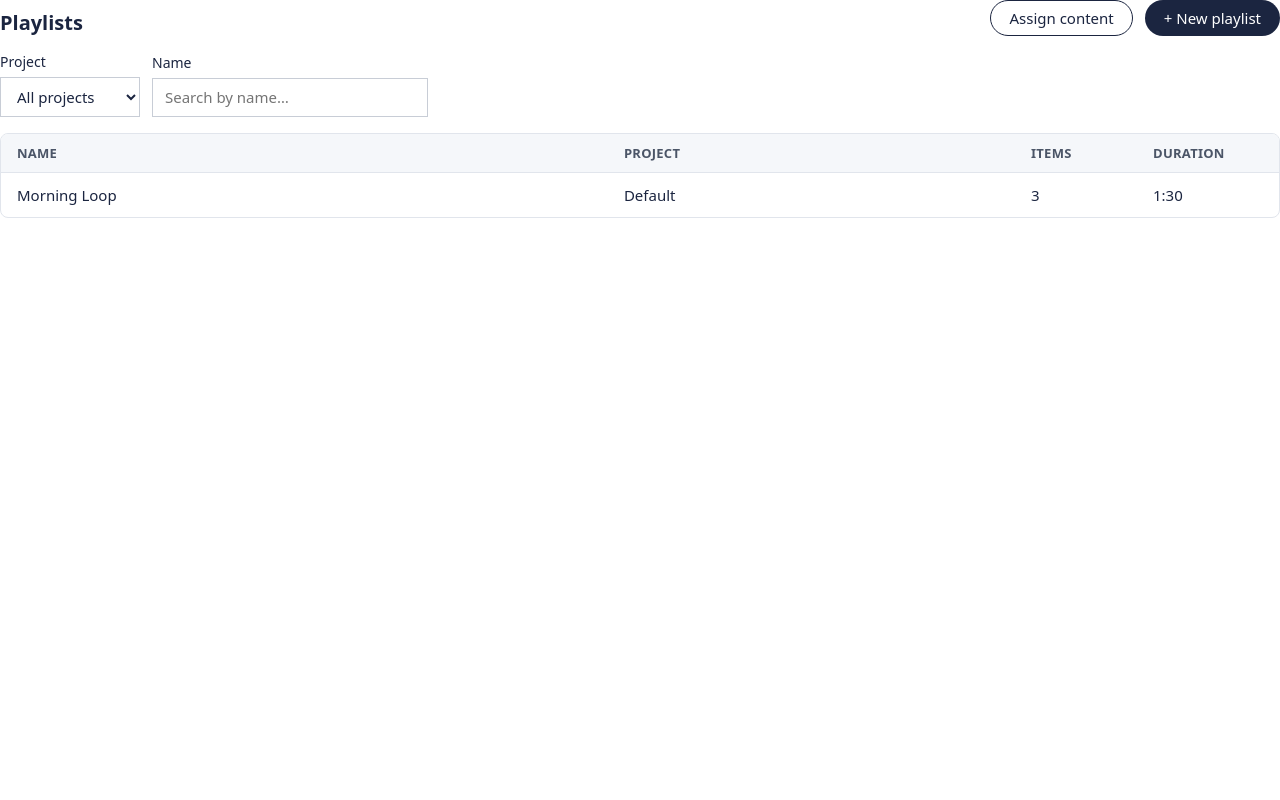
Test: PlaylistsPage — reorder wiring › persists a mouse drag reorder exactly once with the dragged-to order
What coordinates should you click on to do the following:
click the text "Morning Loop"
I would click on:
 (67, 195)
Its box is [1,172,608,217].
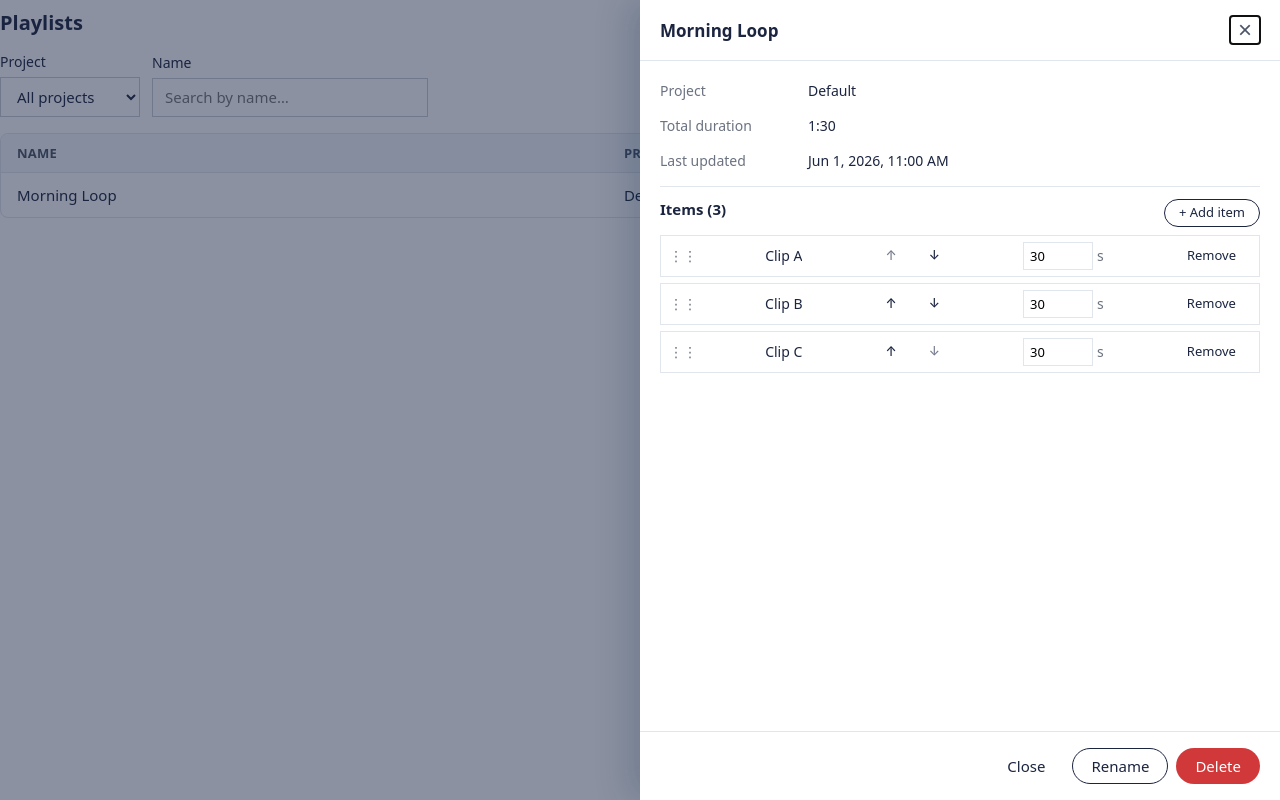
Now the option with aria-label "Clip A — position 1 of 3" is shown, box [660,235,1260,277]
